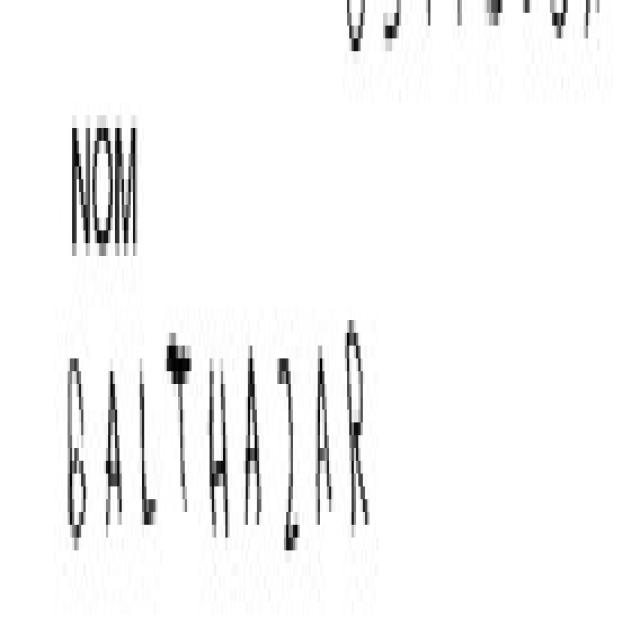Alphabets: (309, 217, 350, 625), (240, 283, 273, 605), (101, 316, 134, 592)
B: (44, 319, 92, 579)
H: (207, 312, 237, 625)
L: (136, 313, 167, 598)
R: (342, 233, 376, 585)
T: (163, 280, 205, 608)
Z: (274, 217, 312, 575)
